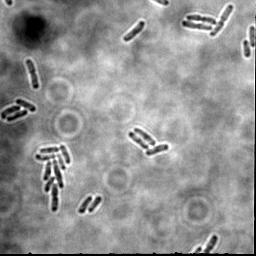Dividing: (209, 3, 235, 37), (24, 57, 41, 90), (186, 12, 217, 25), (181, 19, 214, 31)
Microcolony: (34, 144, 72, 214)
Rod: (122, 19, 146, 42), (132, 127, 157, 145), (128, 131, 150, 150), (144, 142, 170, 157), (15, 97, 37, 114), (6, 108, 29, 123), (77, 194, 93, 214), (0, 104, 21, 119), (87, 195, 103, 214), (241, 39, 252, 59), (248, 25, 255, 48)
